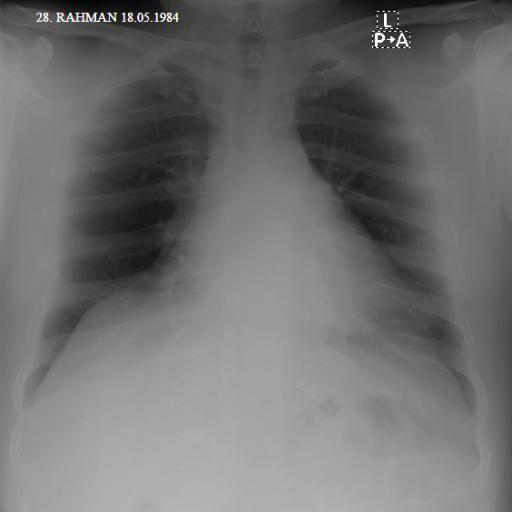kardiomegali: (20, 30, 498, 437)
